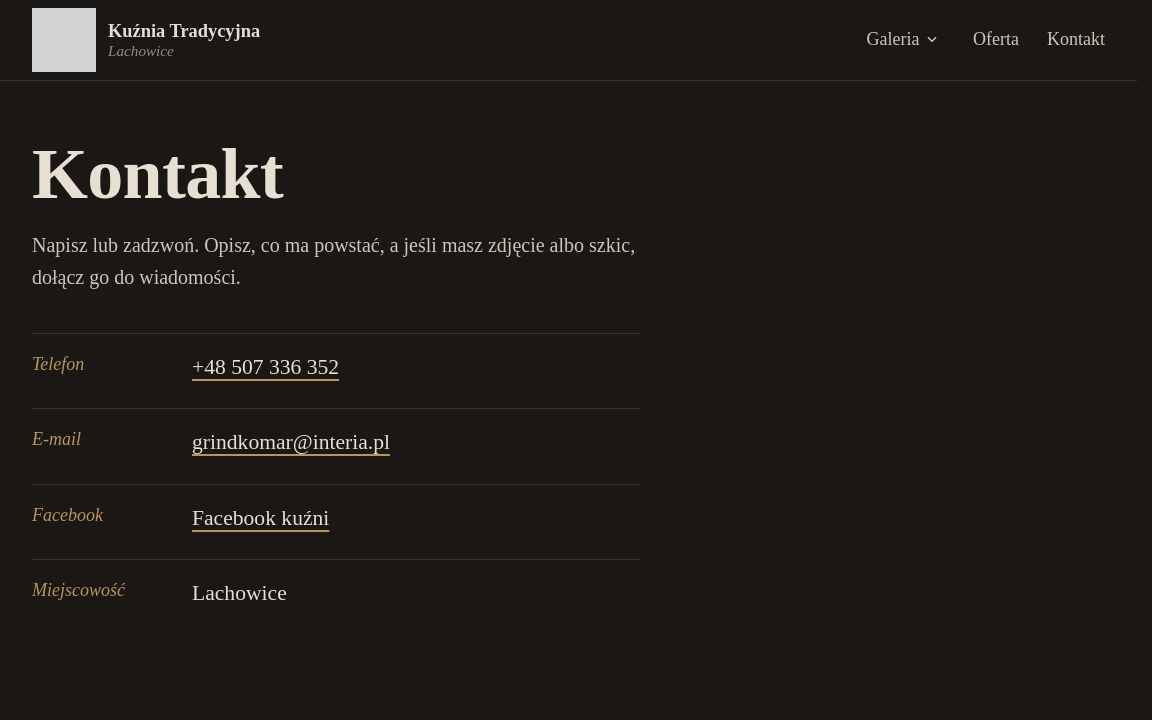
Test: main navigation (wide screens) › closes the panel with Escape and returns focus to the toggle
The image size is (1152, 720).
Click the button "Galeria": (903, 40) x1=860 y1=14 x2=945 y2=66
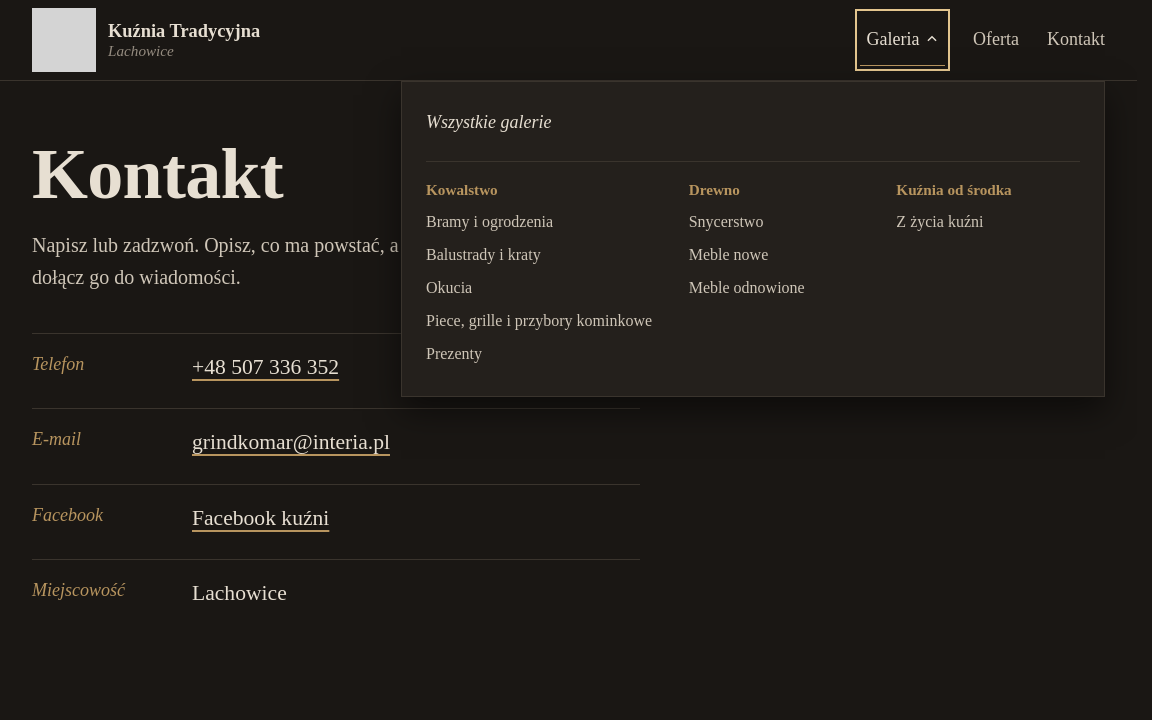
Press Escape
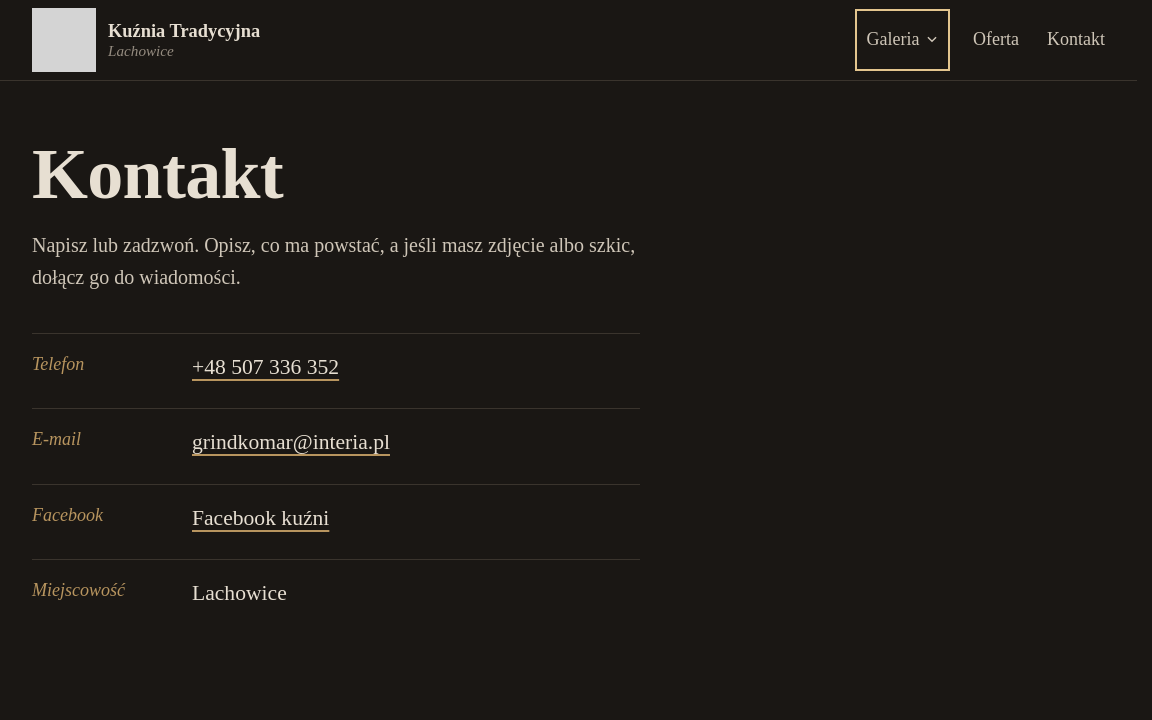
expect the button "Galeria" is collapsed: met, box x1=860 y1=14 x2=945 y2=66
